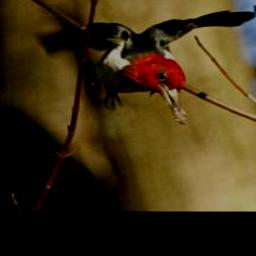Woodpecker: (39, 0, 256, 127)
